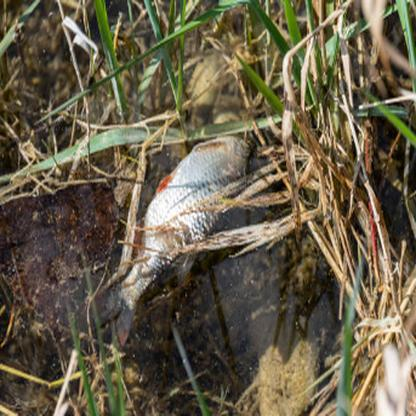deceased fish: (115, 127, 260, 338)
